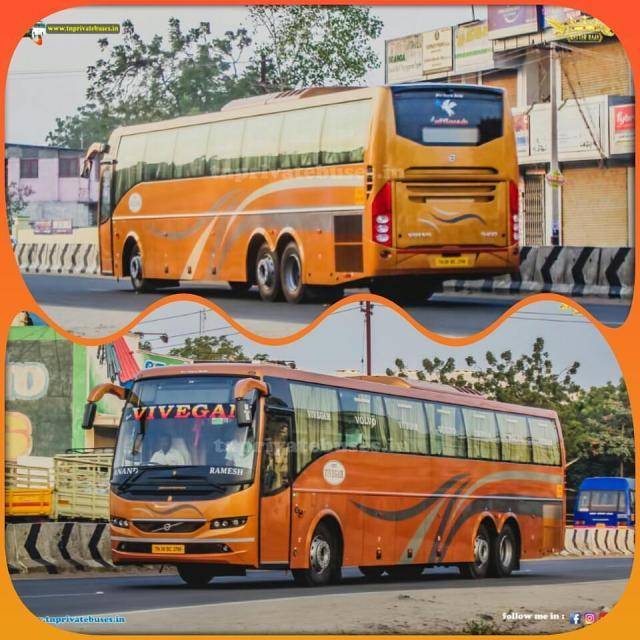Bus: (70, 363, 568, 600), (68, 83, 526, 304), (574, 472, 636, 533)
